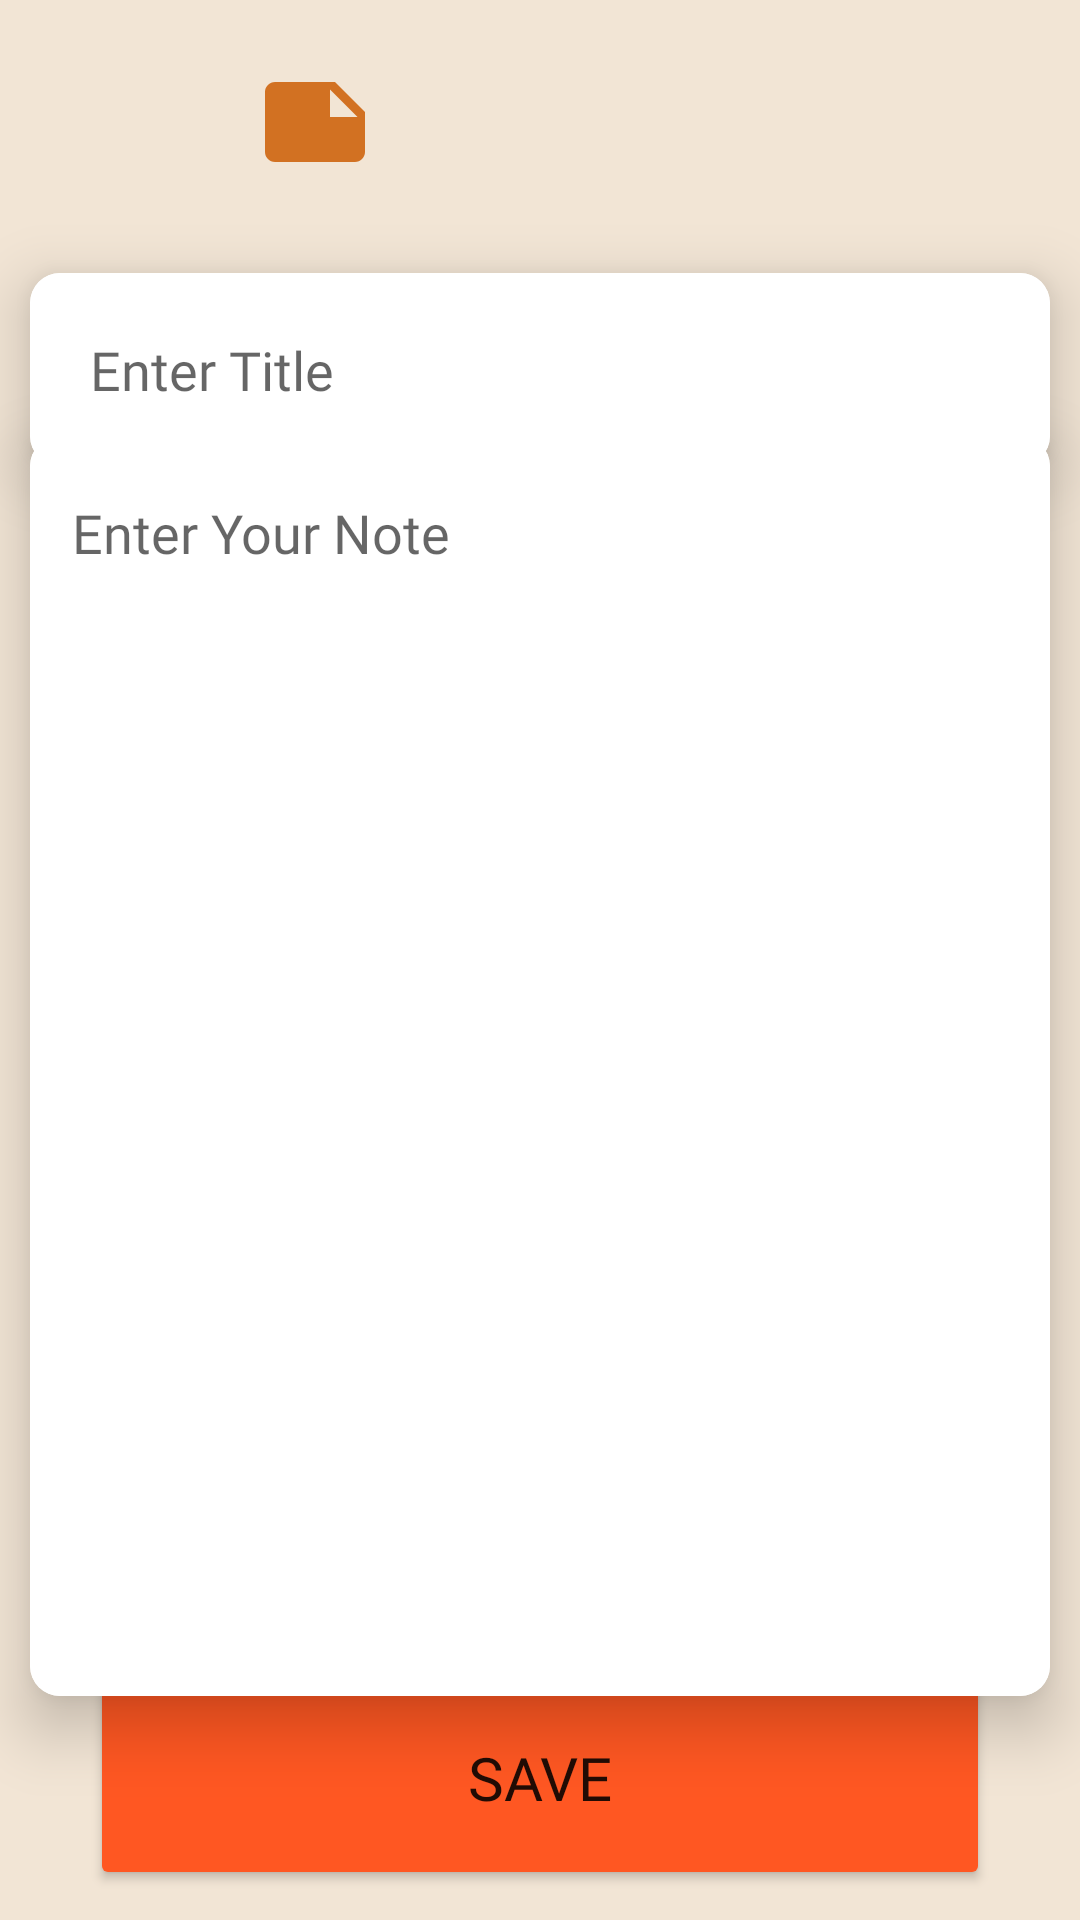

Screen size 1080*1920. Icon name, then its center in pixels as point (x, y):
note: point (315, 122)
